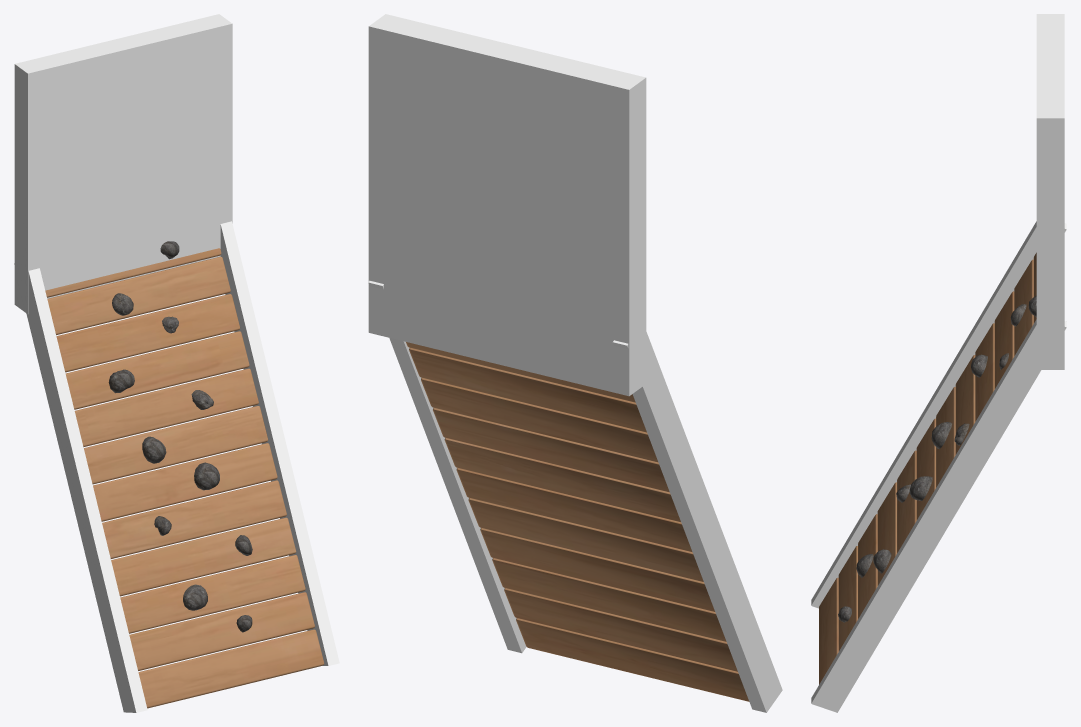
3 renders of one model, left to right at view 1: azimuth 30°, elevation 25°; view 2: azimuth 150°, elevation 25°; view 3: azimuth 270°, elevation 25°, orthographic. The views are drawn at different scales.
Parts seen in each view (by area): view 1: Cube361, joint,2,6, Cube361_1, Cube361_2; view 2: joint,2,6, Cube361, Cube361_1; view 3: Cube361_1, Cube361, joint,2,6, Cube361_2.
Part boxes in pixels (x1,y1,x2,y2): Cube361: (45, 248, 324, 708); joint,2,6: (14, 14, 232, 313); Cube361_1: (14, 221, 339, 712); Cube361_2: (108, 241, 252, 632); joint,2,6: (368, 14, 646, 396); Cube361: (406, 342, 749, 701); Cube361_1: (368, 280, 782, 712); Cube361_1: (811, 221, 1066, 712); Cube361: (819, 252, 1036, 684); joint,2,6: (1036, 14, 1064, 369); Cube361_2: (838, 295, 1036, 622).
Size of the model in its own units: 0.8896 by 2.36 by 0.9204.
4 materials, 2 textured.
